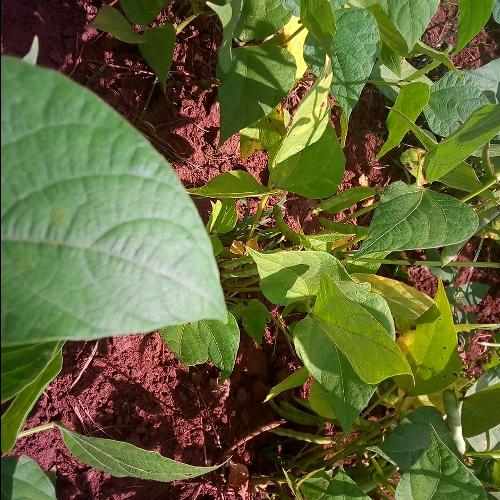sehat: (1, 145, 152, 316)
